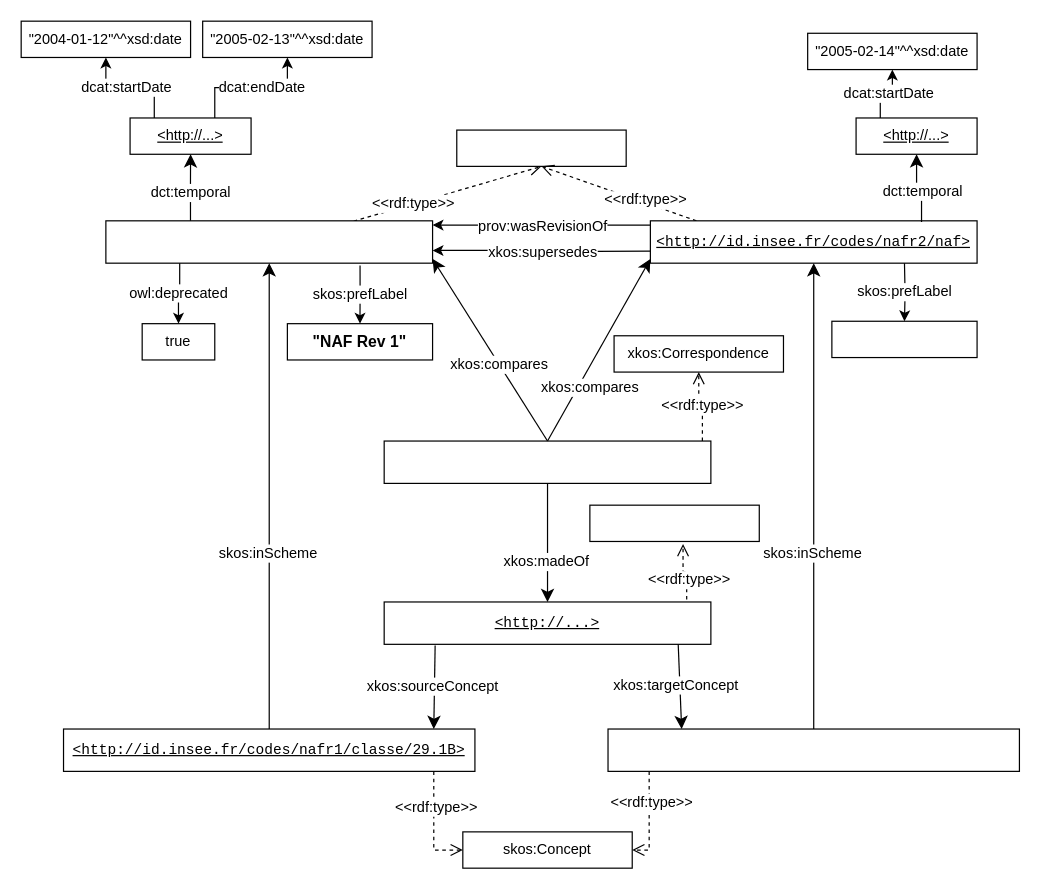
This 1041x889 diagram has some shape labels left out. Each missing label, with the centre of its shape:
"NAF Rev 2": [904,339]
<http://id.insee.fr/codes/naf-nafr1>: [547,461]
<http://id.insee.fr/codes/naf/classe/29.1C>: [813,749]
<http://id.insee.fr/codes/nafr1/naf>: [269,241]
skos:ConceptScheme: [541,147]
xkos:ConceptAssociation: [674,522]
